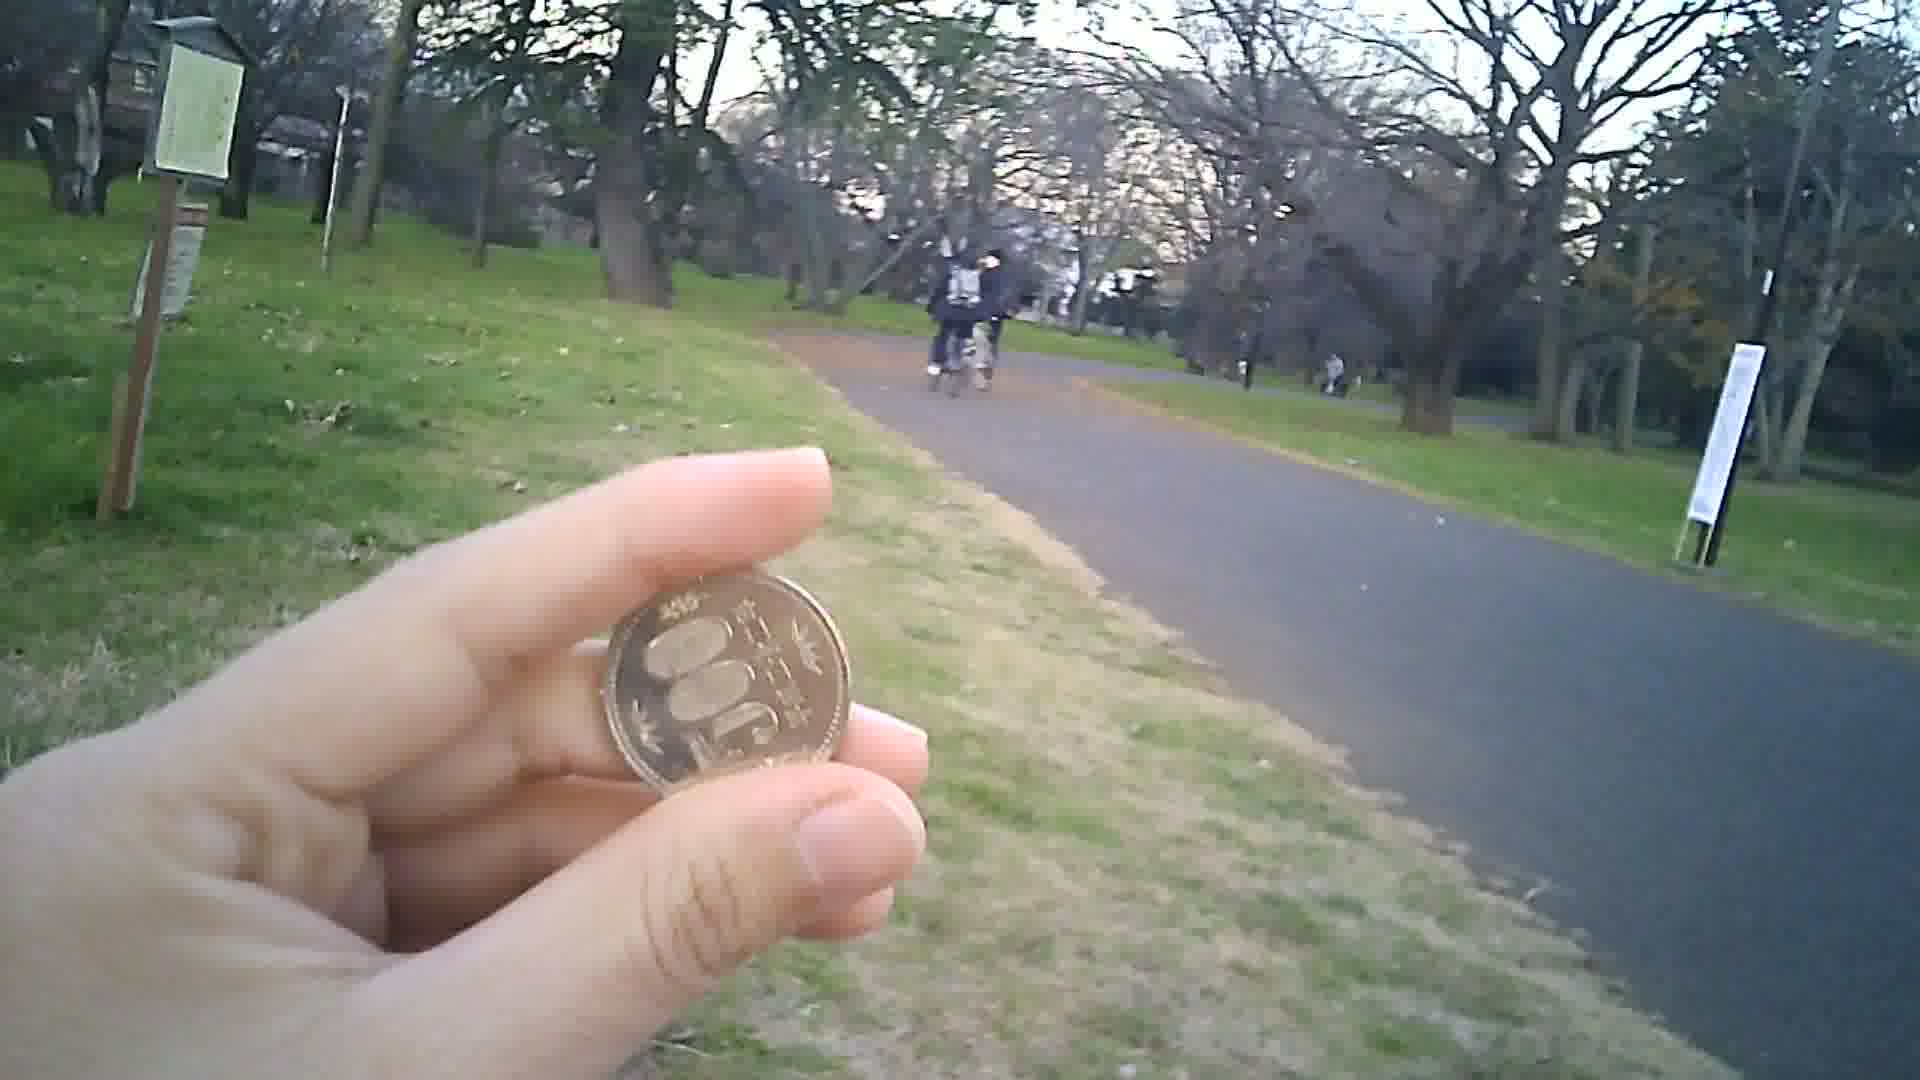500 Yen: (604, 558, 852, 804)
